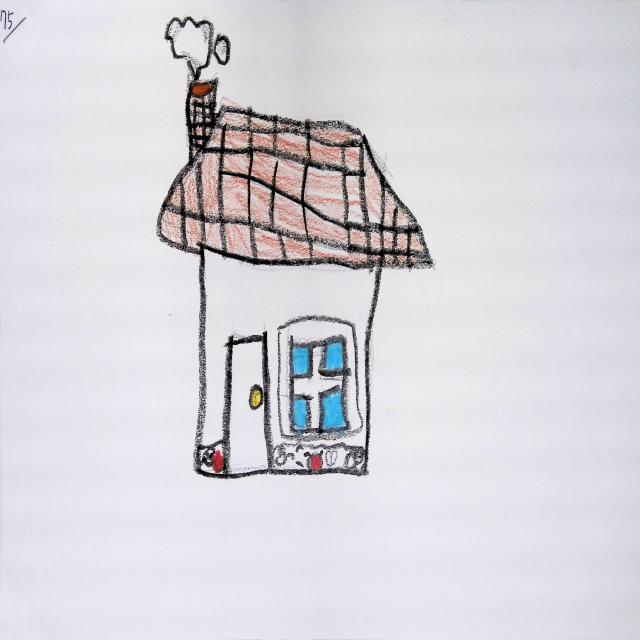chimney: (185, 75, 221, 162)
door: (221, 330, 273, 476)
house: (156, 83, 433, 480)
roof: (163, 108, 436, 266)
wall: (188, 243, 374, 472)
window: (275, 320, 362, 438)
